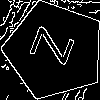Z: (29, 25, 85, 70)
